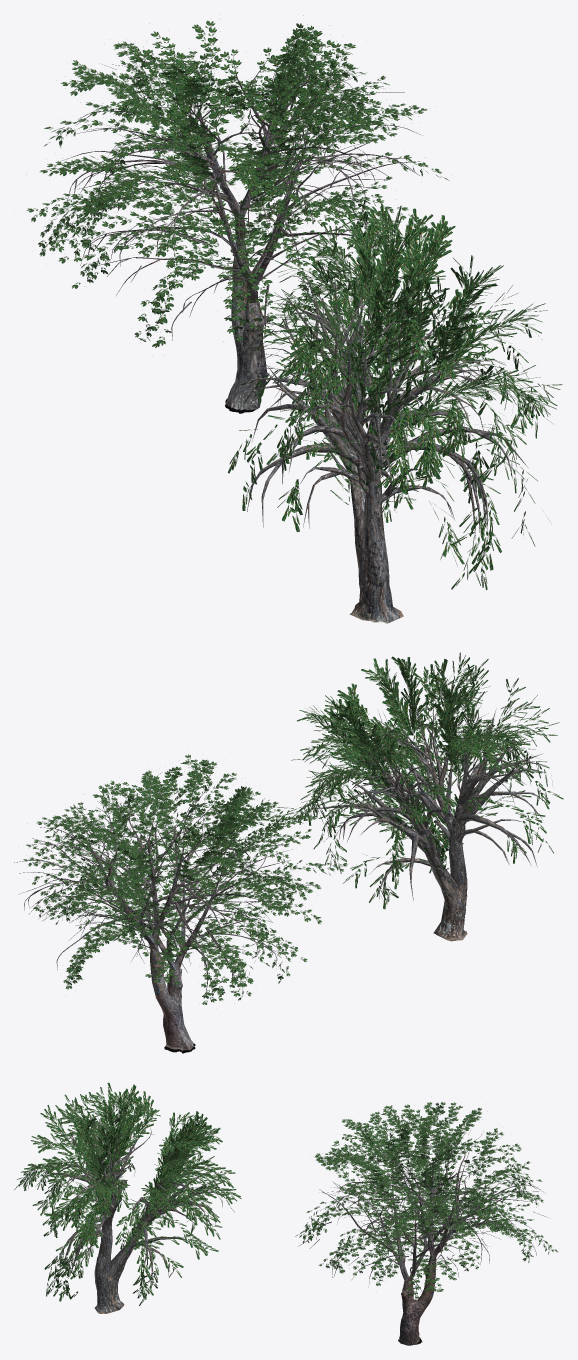
The model's file is lowpoly_scan_trees_pack_1_live_oak_w_graffiti.glb.
3 renders of one model, top to bottom at view 1: azimuth 30°, elevation 25°; view 2: azimuth 150°, elevation 25°; view 3: azimuth 270°, elevation 25°, orthographic. The views are drawn at different scales.
Parts seen in each view (by area): view 1: Graf1LeavesLOW, leaves.008, GrafTree3LOW, GrafTree1LOW; view 2: Graf1LeavesLOW, leaves.008, GrafTree3LOW, GrafTree1LOW; view 3: Graf1LeavesLOW, leaves.008, GrafTree1LOW, GrafTree3LOW.
Boxes of the visible parts, bbox=[...] form: Graf1LeavesLOW: bbox=[26, 14, 449, 349]; leaves.008: bbox=[228, 200, 562, 589]; GrafTree3LOW: bbox=[233, 257, 527, 623]; GrafTree1LOW: bbox=[60, 41, 427, 413]; Graf1LeavesLOW: bbox=[23, 754, 356, 1004]; leaves.008: bbox=[266, 652, 563, 909]; GrafTree3LOW: bbox=[311, 692, 547, 941]; GrafTree1LOW: bbox=[14, 773, 319, 1053]; Graf1LeavesLOW: bbox=[295, 1102, 557, 1298]; leaves.008: bbox=[14, 1082, 241, 1305]; GrafTree1LOW: bbox=[298, 1127, 545, 1345]; GrafTree3LOW: bbox=[35, 1110, 226, 1313].
Bounding box in the file's own units: 8.52 × 6.79 × 15.31.
Materials: 3 (3 with a texture image).
